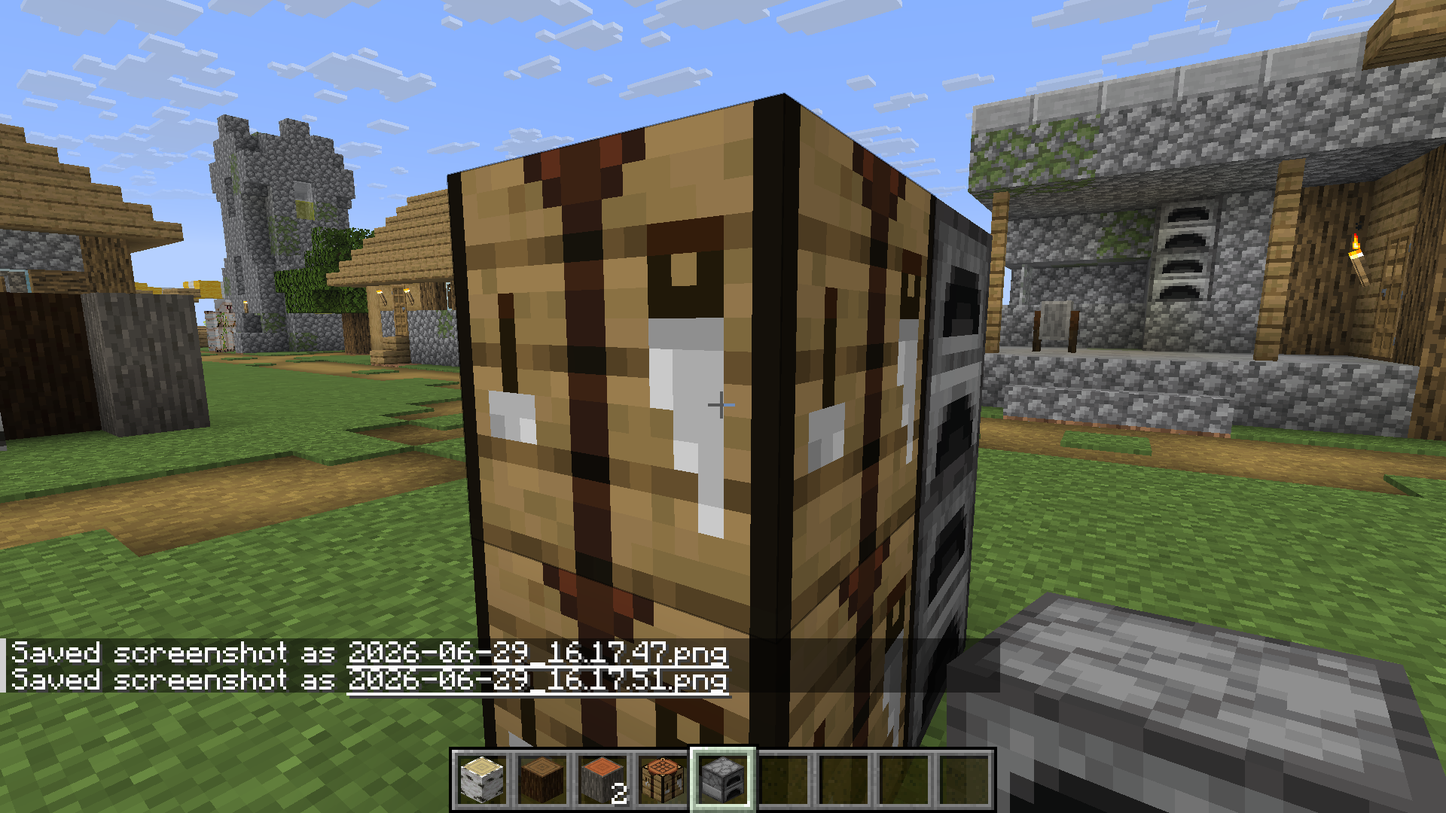Torch: (1348, 234, 1370, 295), (404, 285, 419, 308), (375, 288, 389, 308)
Tree: (277, 227, 374, 357)
cablestone: (1181, 92, 1283, 154), (1101, 110, 1180, 168)
stove: (923, 206, 993, 490), (1152, 195, 1216, 298)
verstak: (446, 98, 933, 643)
wood 2: (95, 295, 218, 436)
wood 3: (0, 295, 84, 435)
